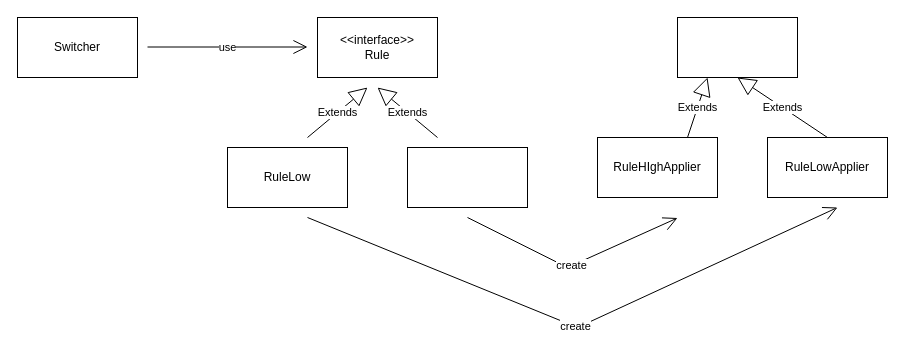
Image size: 905x359. Some labels were removed from this diagram. Each missing label, with the box of its shape:
<<interface>> RuleApplier: (676, 16, 798, 78)
RuleHIgh: (406, 146, 528, 208)
